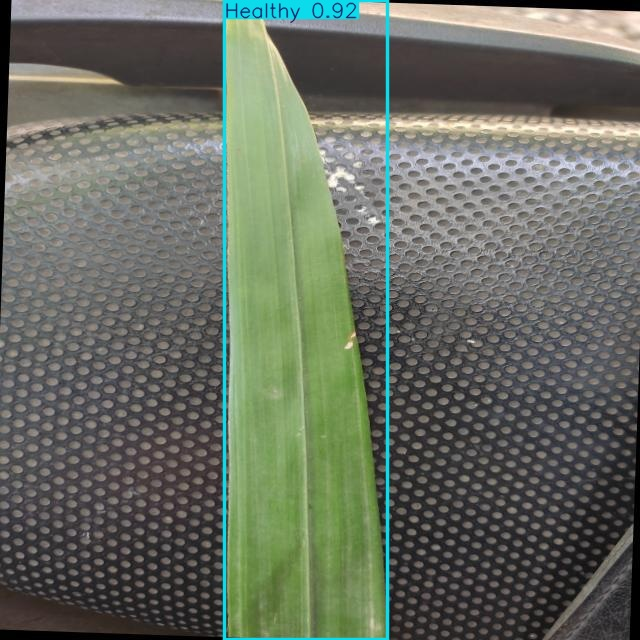Healthy: (224, 0, 387, 639)
